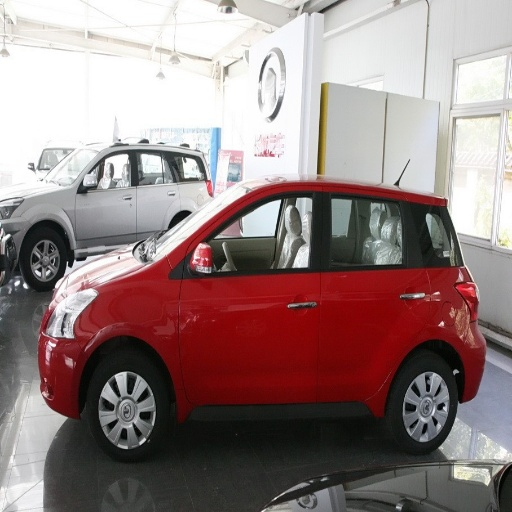back_left_door: (319, 189, 433, 403), (135, 152, 164, 225)
front_left_door: (179, 189, 318, 402), (75, 151, 134, 239)
